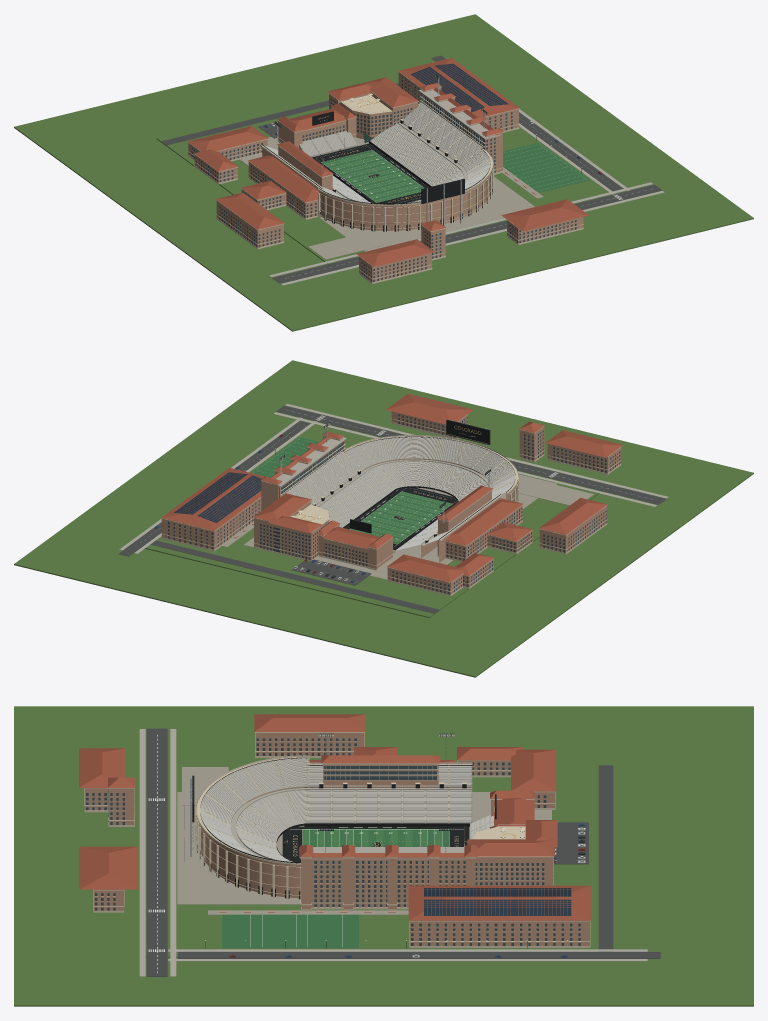
Rendered from stadium.glb.
The picture shows the model from 3 angles, top to bottom: view 1: azimuth 30°, elevation 25°; view 2: azimuth 150°, elevation 25°; view 3: azimuth 270°, elevation 25°; orthographic projection. The views are drawn at different scales.
Visible parts, largest first — view 1: Campus lawn, CU warm sandstone, Tuscan red clay tile, Weathered pale concrete, Buff limestone trim, Aluminum bench tops, Buff concrete paving, Asphalt, Turf dark green, Blue grey architectural glazing, Colorado black, Solar panel blue black (+2 smaller); view 2: Campus lawn, Weathered pale concrete, Tuscan red clay tile, CU warm sandstone, Aluminum bench tops, Buff limestone trim, Asphalt, Blue grey architectural glazing, Buff concrete paving, Colorado black, Turf dark green, Solar panel blue black (+1 smaller); view 3: Campus lawn, CU warm sandstone, Weathered pale concrete, Tuscan red clay tile, Asphalt, Aluminum bench tops, Buff limestone trim, Blue grey architectural glazing, Buff concrete paving, Turf dark green, Solar panel blue black, Colorado black (+3 smaller).
Boxes of the visible parts, bbox=[...] form: Campus lawn: bbox=[14, 14, 753, 331]; CU warm sandstone: bbox=[188, 72, 583, 282]; Tuscan red clay tile: bbox=[187, 58, 588, 266]; Weathered pale concrete: bbox=[269, 58, 664, 285]; Buff limestone trim: bbox=[188, 71, 583, 283]; Aluminum bench tops: bbox=[263, 102, 490, 202]; Buff concrete paving: bbox=[240, 132, 543, 259]; Asphalt: bbox=[161, 55, 662, 283]; Turf dark green: bbox=[322, 142, 589, 200]; Blue grey architectural glazing: bbox=[191, 76, 601, 281]; Colorado black: bbox=[262, 75, 581, 231]; Solar panel blue black: bbox=[411, 63, 508, 112]; Campus lawn: bbox=[14, 360, 753, 677]; Weathered pale concrete: bbox=[119, 403, 668, 553]; Tuscan red clay tile: bbox=[161, 393, 622, 582]; CU warm sandstone: bbox=[161, 411, 620, 594]; Aluminum bench tops: bbox=[282, 437, 515, 550]; Buff limestone trim: bbox=[161, 414, 621, 596]; Asphalt: bbox=[118, 405, 666, 613]; Blue grey architectural glazing: bbox=[155, 414, 620, 594]; Buff concrete paving: bbox=[222, 470, 593, 579]; Colorado black: bbox=[275, 419, 515, 550]; Turf dark green: bbox=[251, 437, 449, 543]; Solar panel blue black: bbox=[174, 472, 261, 523]; Campus lawn: bbox=[14, 706, 753, 1006]; CU warm sandstone: bbox=[84, 732, 589, 945]; Weathered pale concrete: bbox=[139, 729, 647, 976]; Tuscan red clay tile: bbox=[79, 714, 590, 920]; Asphalt: bbox=[146, 728, 660, 976]; Aluminum bench tops: bbox=[200, 758, 493, 861]; Buff limestone trim: bbox=[84, 732, 590, 947]; Blue grey architectural glazing: bbox=[86, 738, 583, 956]; Buff concrete paving: bbox=[177, 767, 551, 914]; Turf dark green: bbox=[222, 829, 449, 948]; Solar panel blue black: bbox=[424, 888, 571, 915]; Colorado black: bbox=[192, 733, 527, 948].
Bounding box in the file's own units: 440 × 55.2 × 460.
